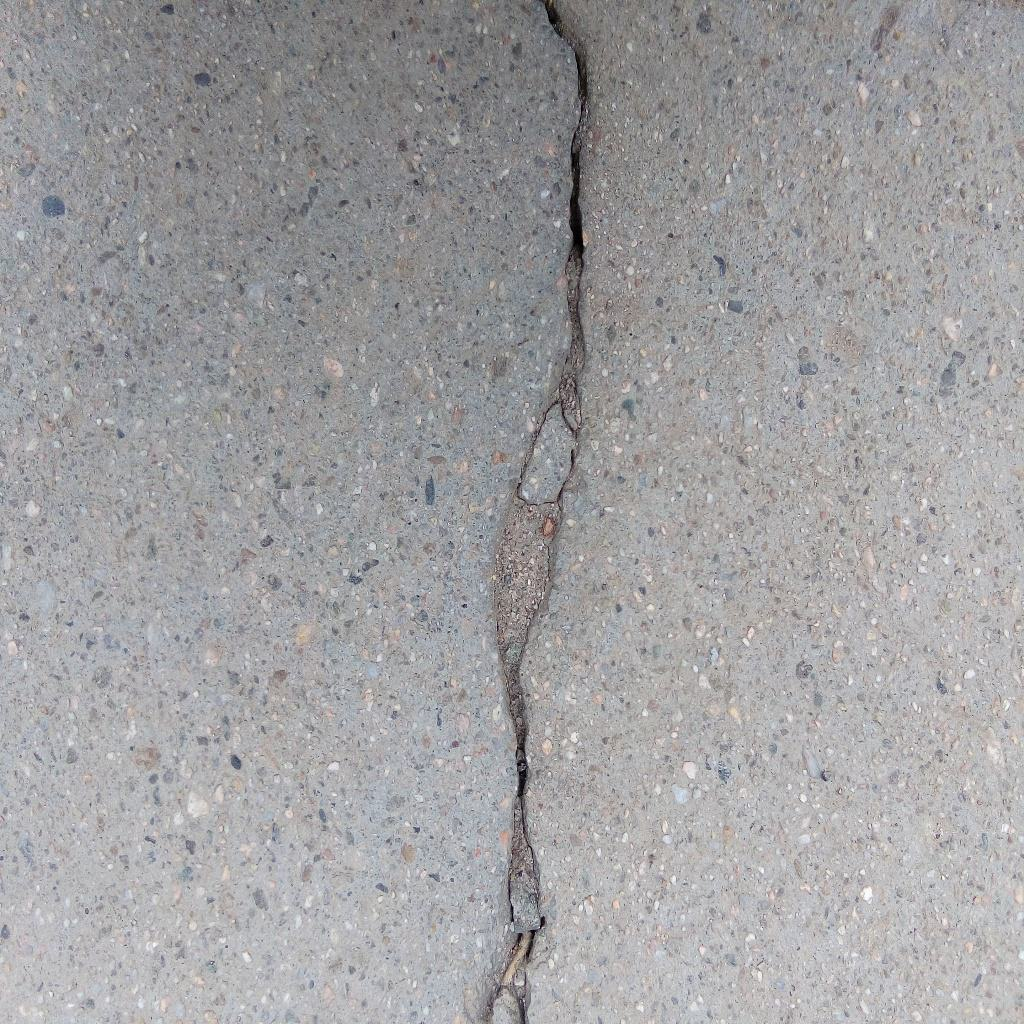Crack: (482, 1, 591, 1024)
